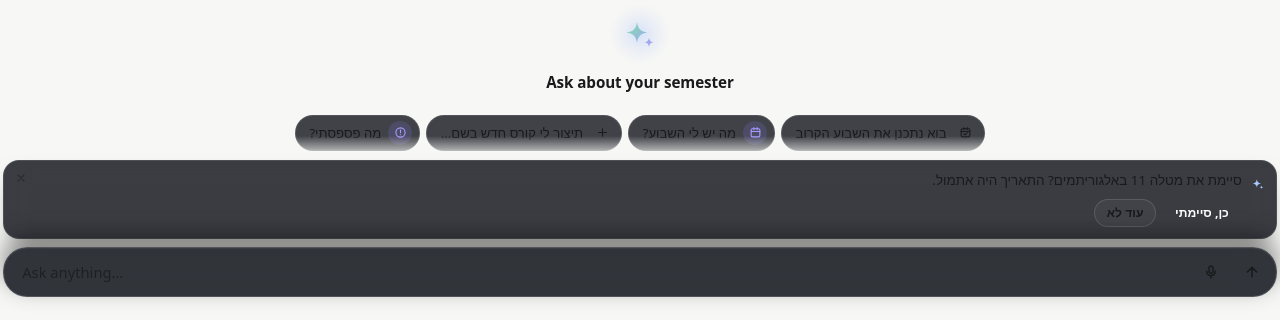
Test: AgentPanel › asks whether a missed task was handed in and marks it done on yes
The width and height of the screenshot is (1280, 320).
expect the text "סיימת את מטלה 11 באלגוריתמים? התאריך היה אתמול." is shown: met, box 932,171 -> 1242,189
Click the button "כן, סיימתי". click: point(1202, 213)
box: 1162,199 -> 1242,227
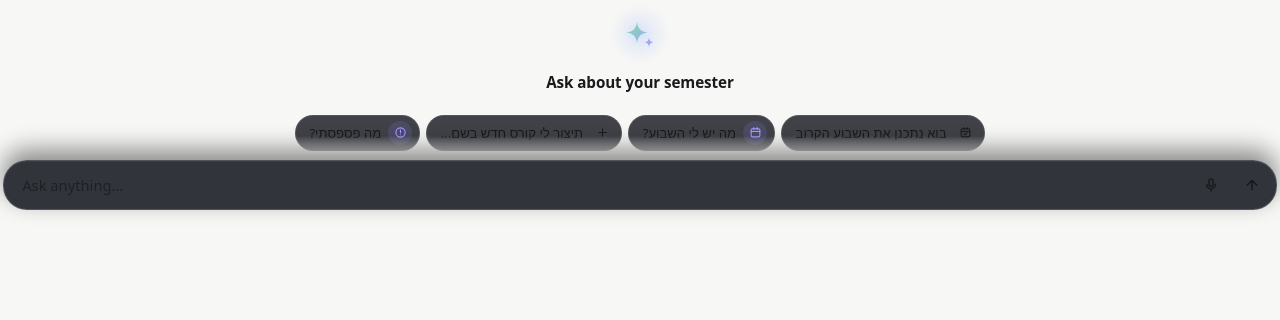
expect the text "סיימת את מטלה 11" is gone: met
